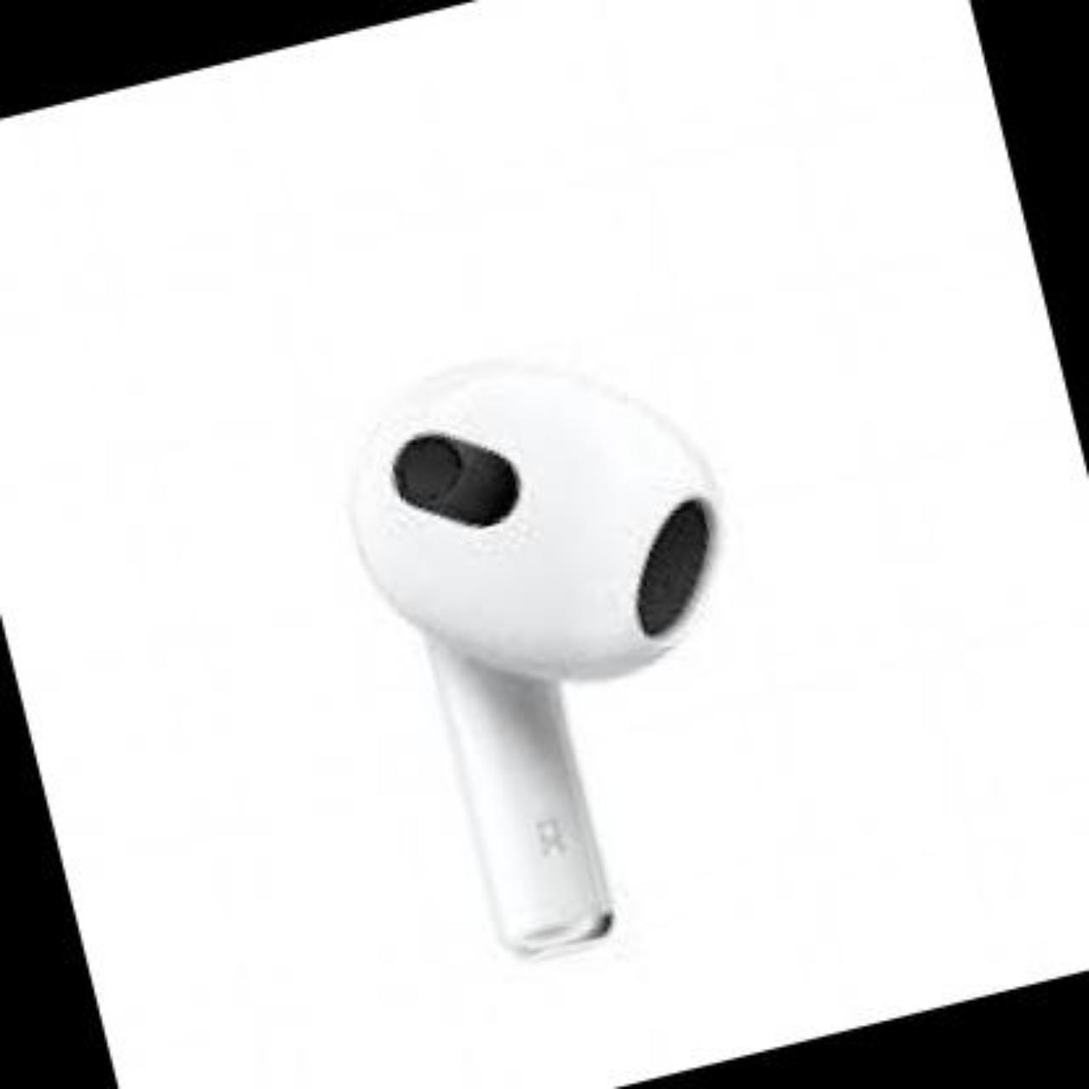Airpods_Units: (326, 298, 836, 986)
